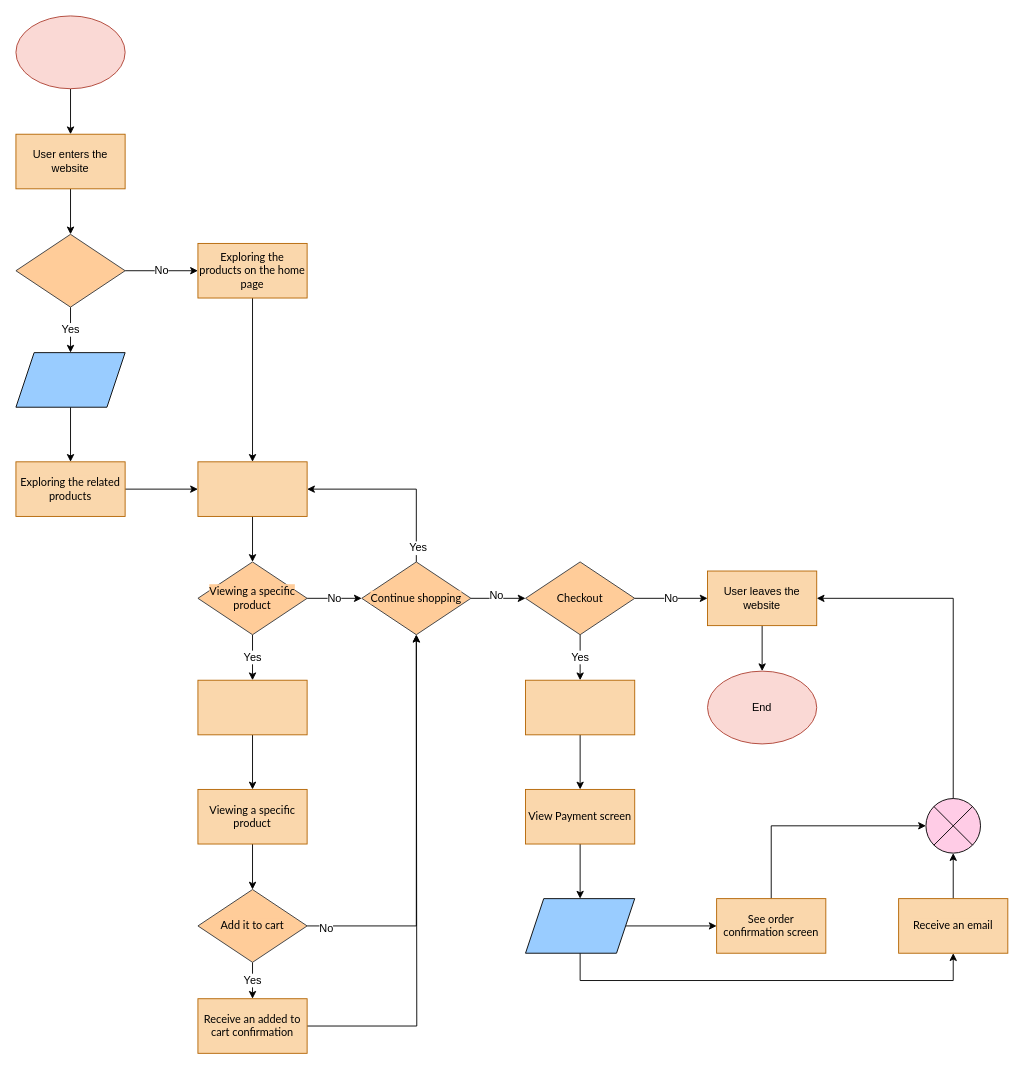
Some shapes in this 1024 by 1069 pixel diagram are drawn without their labels. The shapes that lost their labels are listed below. From the top down, each one's centre as x and y in pixels, then its label:
At [70,52]: "Start".
At [70,270]: "Search Product".
At [70,379]: "Provide input to search".
At [252,488]: "Looking over the products".
At [252,707]: "Open product’s webpage".
At [580,707]: "View Cart screen".
At [580,925]: "Provide Input payment information".
